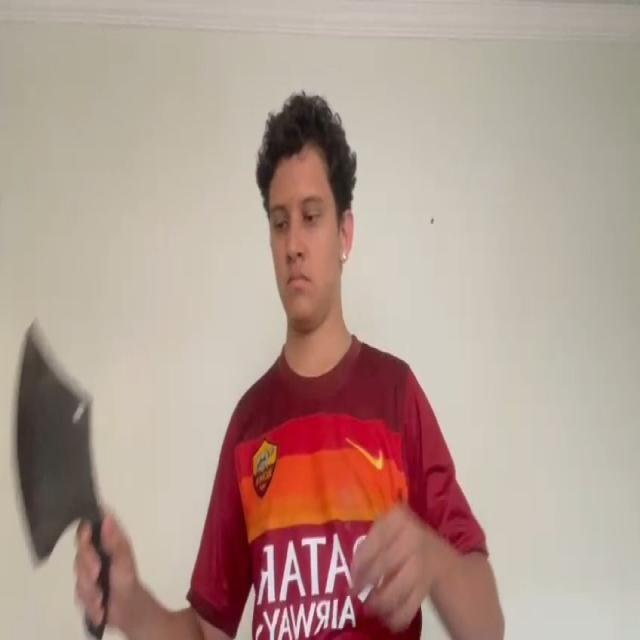knife: (16, 320, 99, 563)
